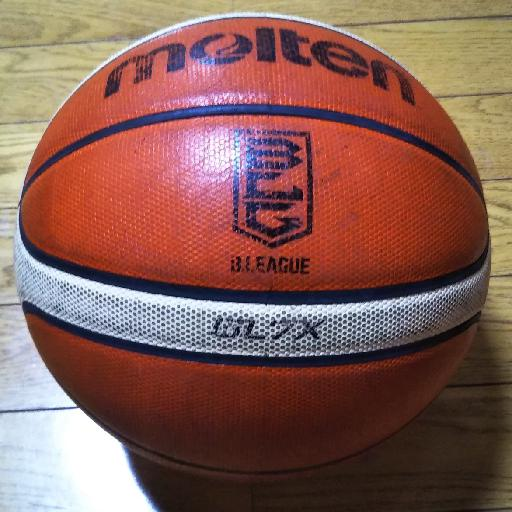ball: (15, 14, 489, 477)
